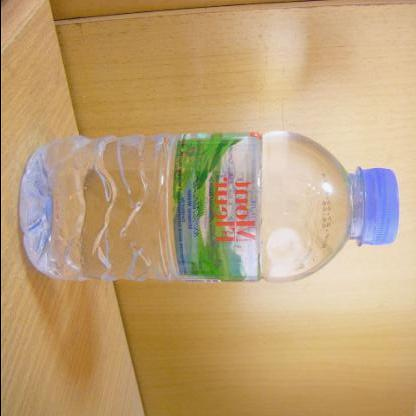bottle: (18, 126, 406, 286)
